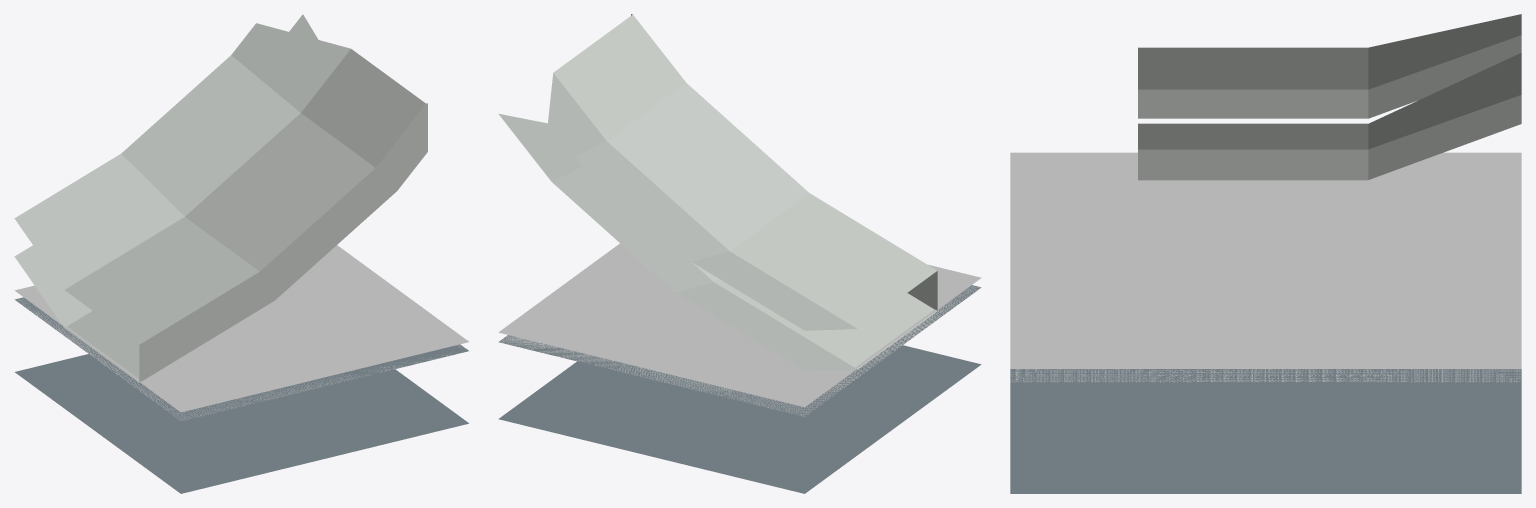
Rendered from cell_39.obj.
3 views of the same model, side by side, from view 1: azimuth 30°, elevation 25°; view 2: azimuth 150°, elevation 25°; view 3: azimuth 270°, elevation 25° (orthographic). The views are drawn at different scales.
Size of the model in its own units: 1 by 0.96 by 1.
